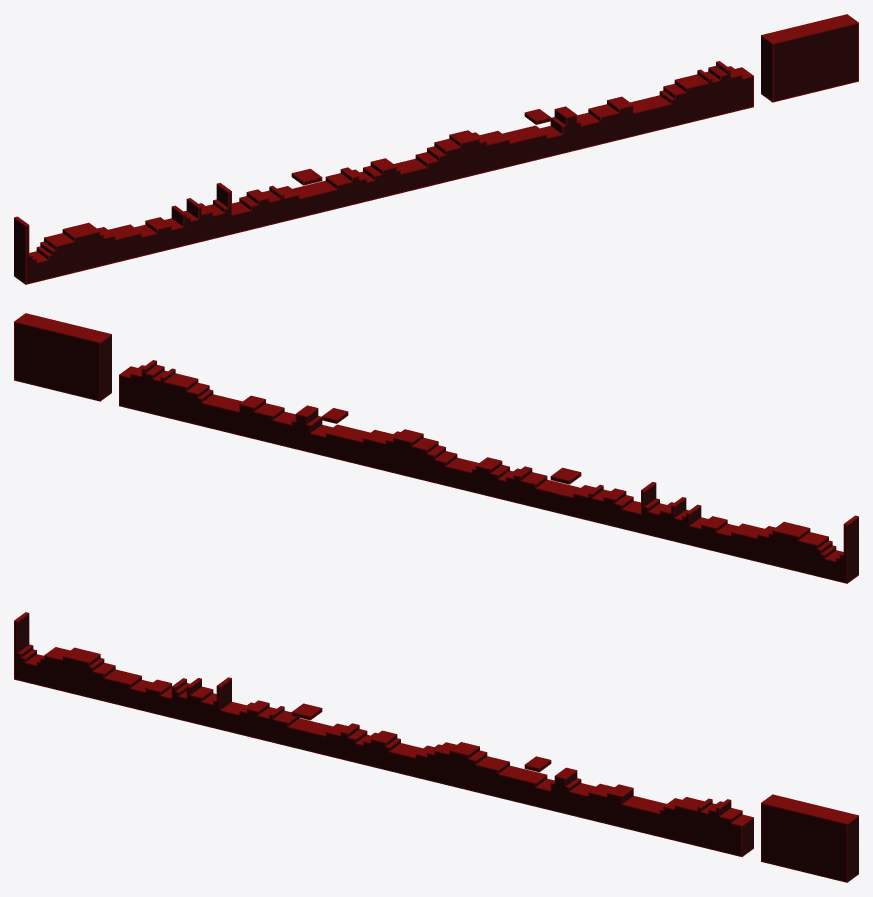
File: Luna2SoloVermelho.glb
3 renders of one model, top to bottom at view 1: azimuth 30°, elevation 25°; view 2: azimuth 150°, elevation 25°; view 3: azimuth 330°, elevation 25°, orthographic.
Visible parts, largest first — view 1: Setor_6, Setor_0, Setor_5, Setor_4, Setor_1, Setor_3, Setor_2; view 2: Setor_6, Setor_0, Setor_5, Setor_4, Setor_1, Setor_3, Setor_2; view 3: Setor_6, Setor_0, Setor_5, Setor_4, Setor_3, Setor_1, Setor_2.
Part boxes in pixels (x1=…): Setor_6: x1=735, y1=14, x2=858, y2=108; Setor_0: x1=14, y1=216, x2=145, y2=284; Setor_5: x1=615, y1=61, x2=746, y2=138; Setor_4: x1=495, y1=98, x2=626, y2=167; Setor_1: x1=135, y1=183, x2=265, y2=255; Setor_3: x1=375, y1=130, x2=505, y2=196; Setor_2: x1=254, y1=161, x2=385, y2=225; Setor_6: x1=14, y1=313, x2=137, y2=407; Setor_0: x1=727, y1=515, x2=858, y2=583; Setor_5: x1=126, y1=360, x2=257, y2=437; Setor_4: x1=246, y1=397, x2=377, y2=466; Setor_1: x1=607, y1=482, x2=737, y2=554; Setor_3: x1=367, y1=429, x2=497, y2=495; Setor_2: x1=487, y1=460, x2=618, y2=524; Setor_6: x1=734, y1=794, x2=858, y2=882; Setor_0: x1=14, y1=612, x2=145, y2=708; Setor_5: x1=614, y1=786, x2=745, y2=855; Setor_4: x1=494, y1=756, x2=625, y2=825; Setor_3: x1=374, y1=731, x2=505, y2=796; Setor_1: x1=134, y1=677, x2=265, y2=737; Setor_2: x1=254, y1=702, x2=385, y2=767.
Bounding box in the file's own units: 231 × 15.6 × 5.6.
Materials: 1 (1 with a texture image).
